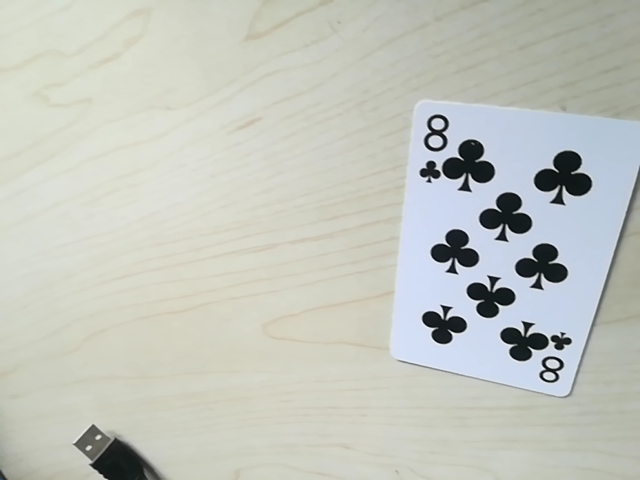mh 8: (411, 103, 461, 178), (530, 334, 576, 391)
